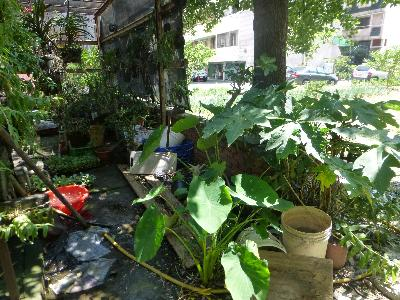bowl: (44, 183, 89, 216)
bucket: (281, 205, 334, 260)
